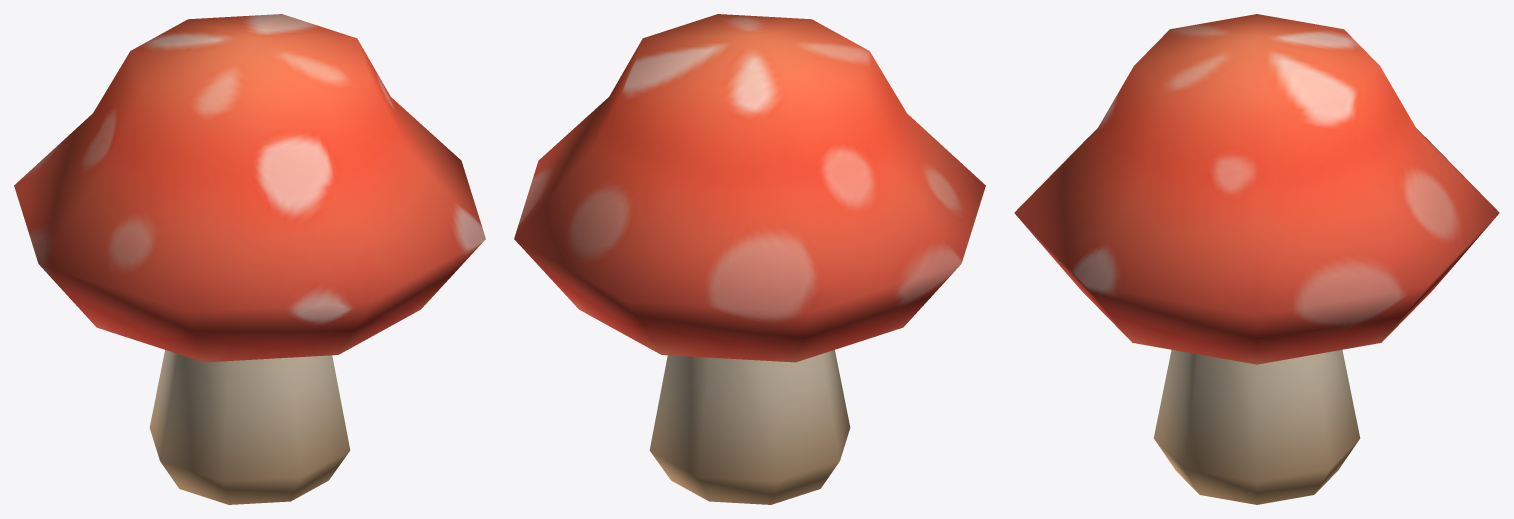
File: MushroomRed01.FBX
The picture shows the model from 3 angles, left to right: view 1: azimuth 30°, elevation 25°; view 2: azimuth 150°, elevation 25°; view 3: azimuth 270°, elevation 25°; orthographic projection.
Parts seen in each view (by area): view 1: MushroomRed01; view 2: MushroomRed01; view 3: MushroomRed01.
Part boxes in pixels (<box>): MushroomRed01: <box>14,14,485,504</box>; MushroomRed01: <box>514,14,985,504</box>; MushroomRed01: <box>1014,14,1499,504</box>.
Bounding box in the file's own units: 152 × 155 × 152.
